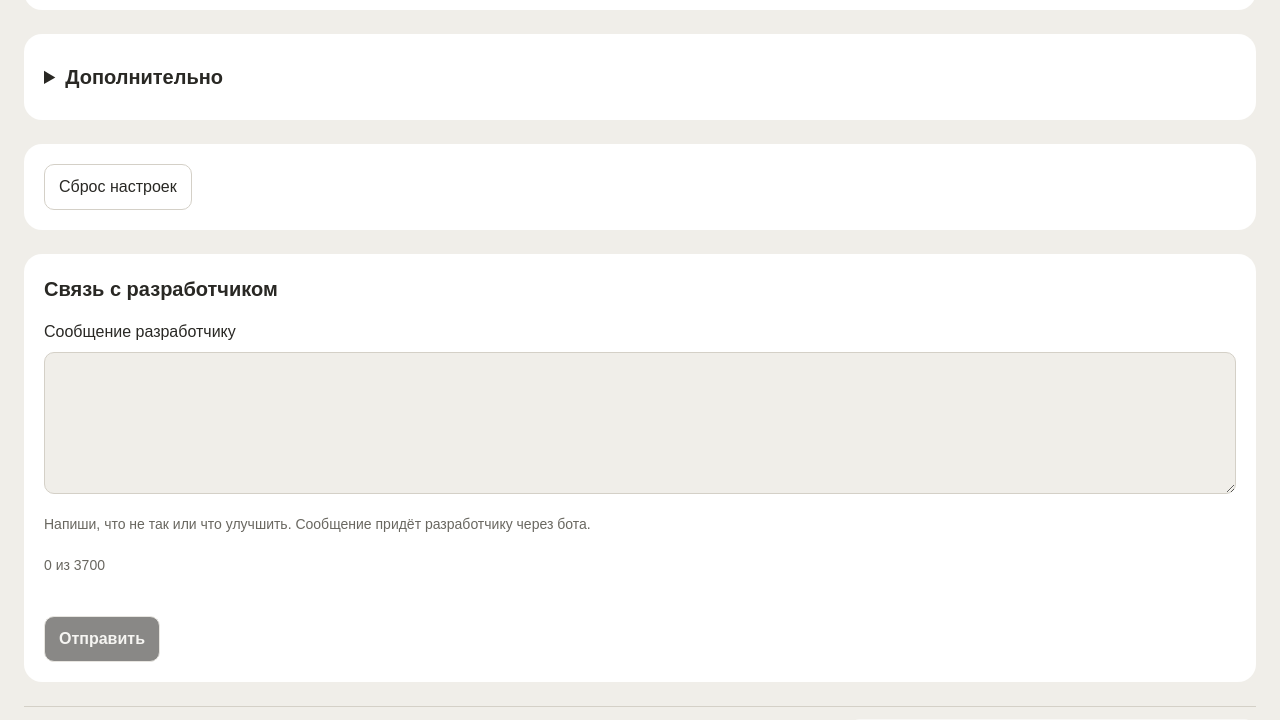
Test: the message to the developer in settings › a refusal without the VALIDATION_FAILED code keeps the general refusal text
(page scrolled)
Type "Das Wort ist falsch geschrieben" into the text box labelled "Сообщение разработчику" at (640, 423), box [44, 352, 1236, 494]
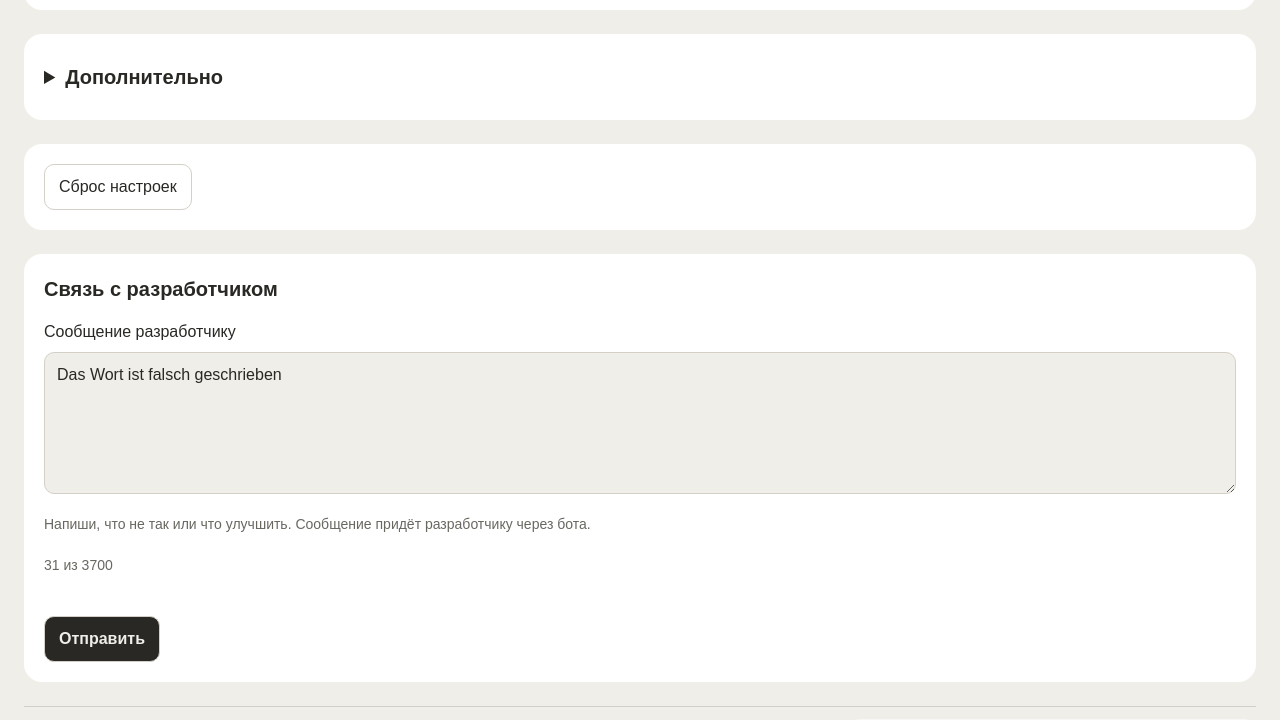
Click the button "Отправить" at (102, 639), box [44, 616, 160, 662]
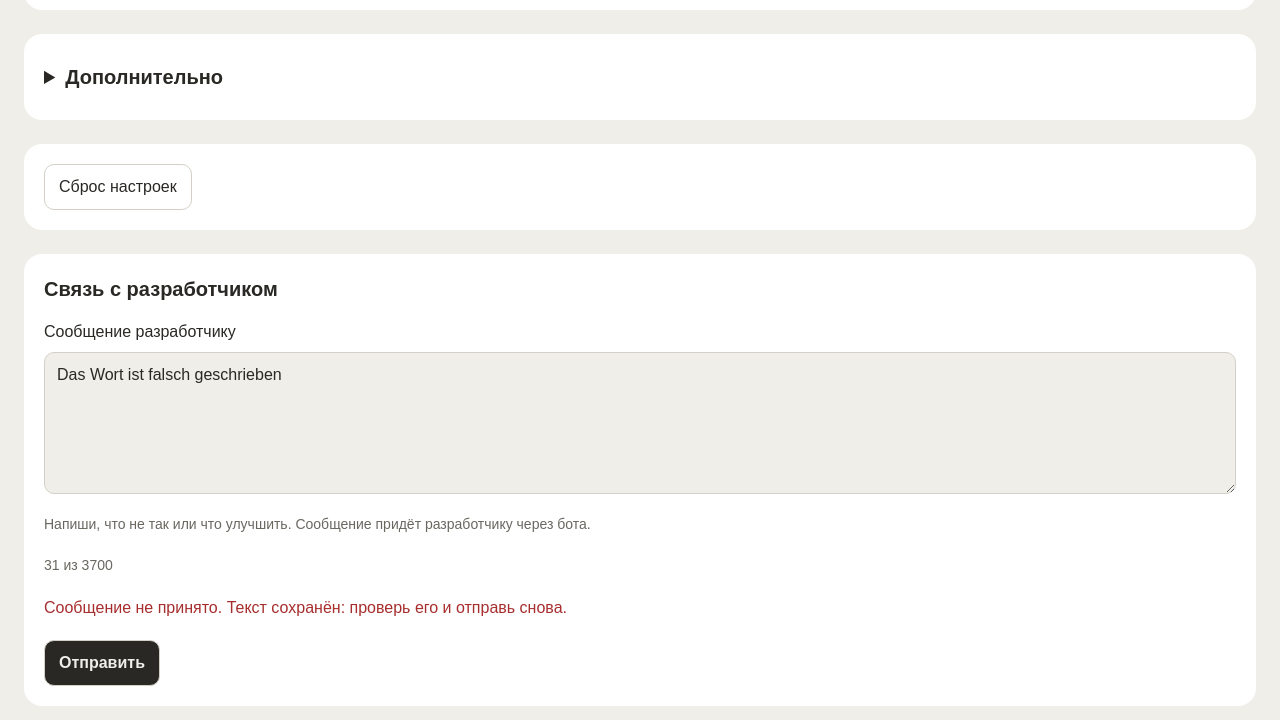
Check: the text "Сообщение не принято. Текст сохранён: проверь его и отправь снова." is shown, box [44, 599, 567, 616]
